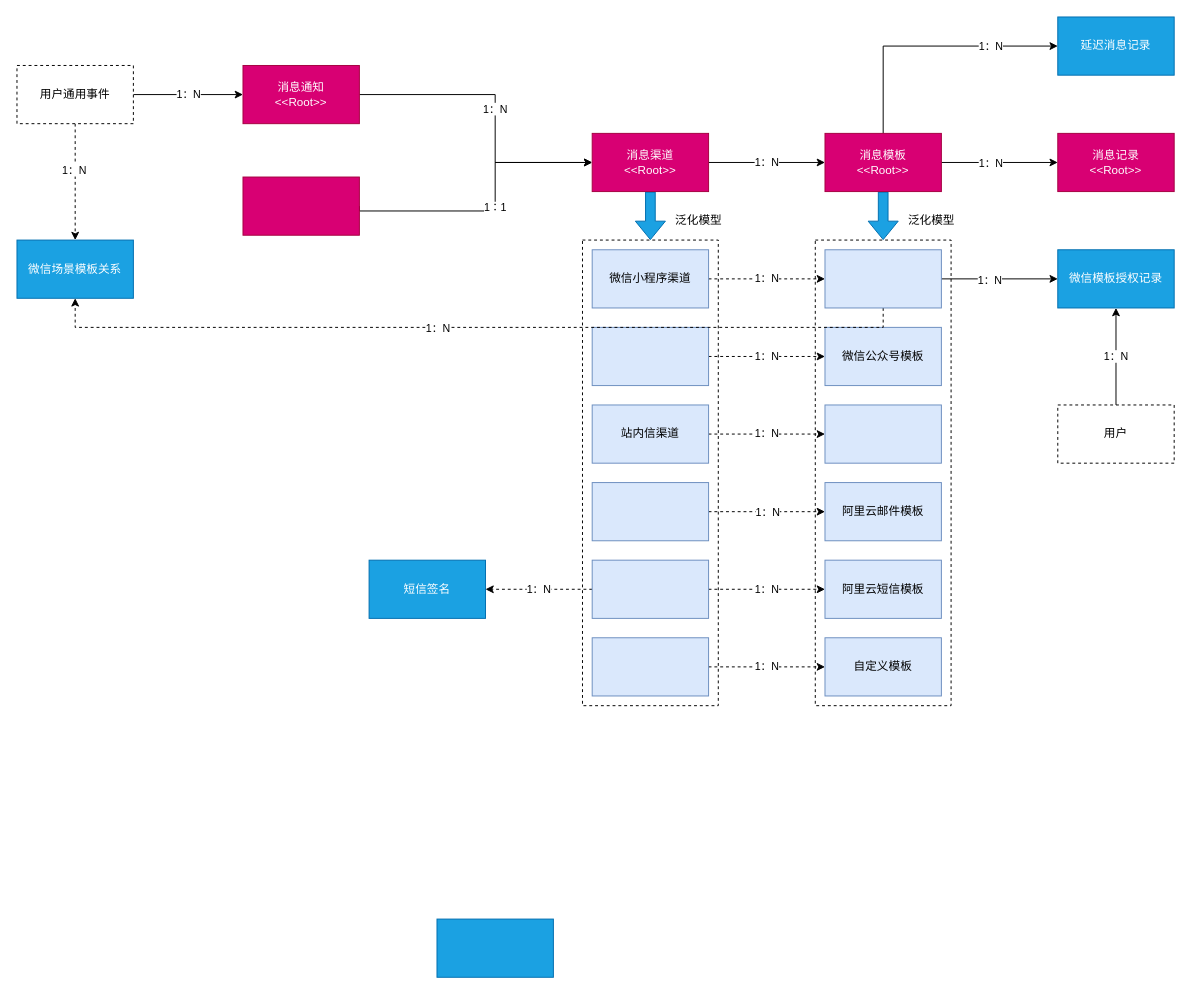
The diagram is 1191 pixels wide and 994 high, and some of its shapes have lost their labels. Each missing label, with the box of its shape:
微信公众号渠道: (591, 326, 709, 386)
微信小程序模板: (824, 249, 941, 308)
消息任务 <<Root>>: (242, 176, 359, 235)
消息站内信: (436, 918, 553, 977)
站内信模板: (824, 404, 941, 463)
自定义渠道: (591, 637, 709, 696)
阿里云短信渠道: (591, 559, 709, 618)
阿里云邮件渠道: (591, 482, 709, 541)
